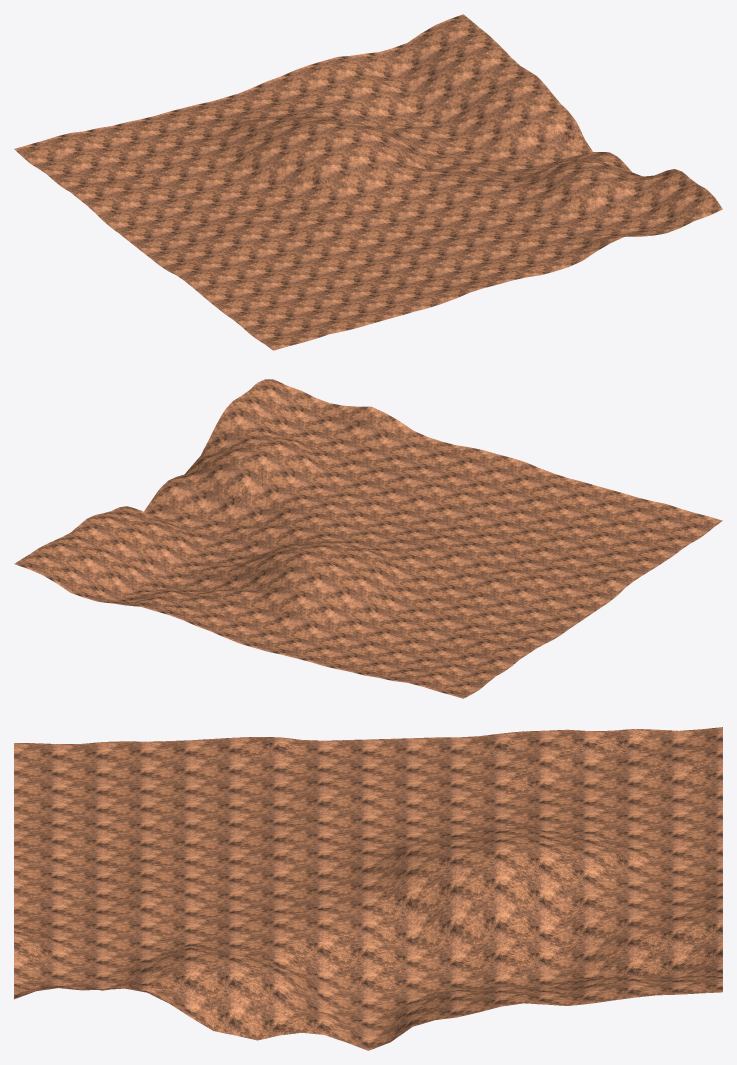
File: terrain_02_05.dae
3 views of the same model, one above another, from view 1: azimuth 30°, elevation 25°; view 2: azimuth 150°, elevation 25°; view 3: azimuth 270°, elevation 25° (orthographic). The views are drawn at different scales.
Parts seen in each view (by area): view 1: terrain_02_05-node; view 2: terrain_02_05-node; view 3: terrain_02_05-node.
Boxes of the visible parts, box(x1,y1,x2,y2) form: terrain_02_05-node: box(14, 14, 722, 350); terrain_02_05-node: box(14, 379, 722, 698); terrain_02_05-node: box(14, 727, 722, 1050).
Size of the model in its own units: 128 by 128 by 12.51.
Materials: 1 (1 with a texture image).
